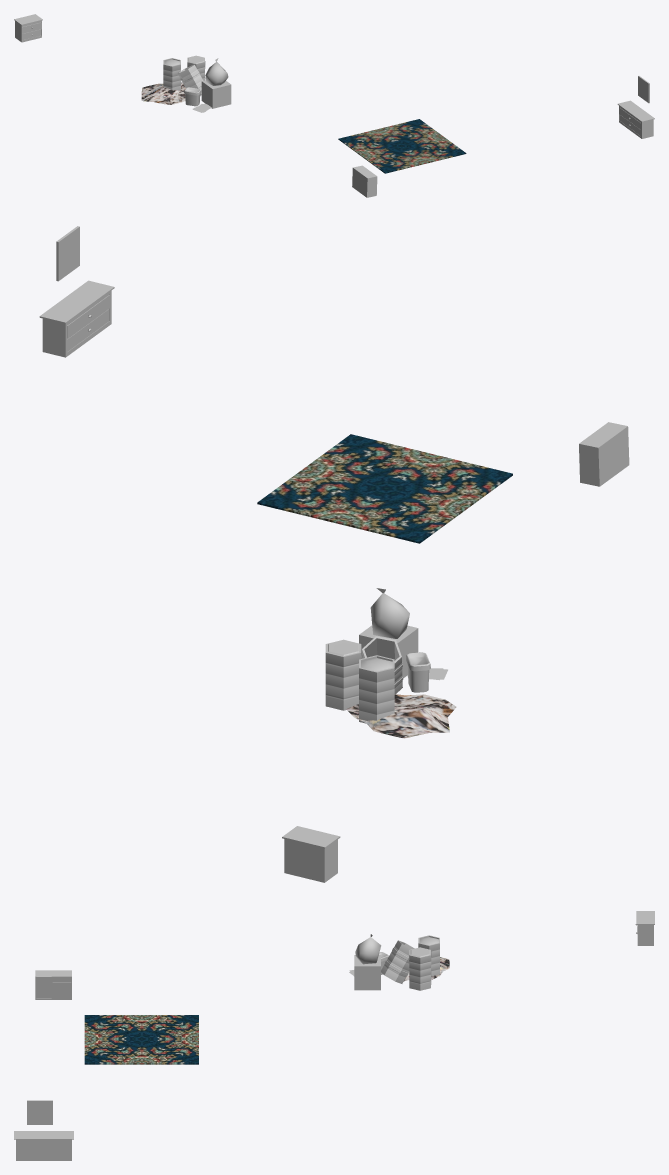
File: Asset Main Building_V2.fbx_Lorong_2.fbx
3 renders of one model, top to bottom at view 1: azimuth 30°, elevation 25°; view 2: azimuth 150°, elevation 25°; view 3: azimuth 270°, elevation 25°, orthographic. The views are drawn at different scales.
Parts seen in each view (by area): view 1: Carpet.002, sampah.006, Chest_drawers.001, CardboardBox_2.012, Chest_drawers_04.008, Cylinder001.002, Chest_drawers, Cylinder008.001, Garbage_bags.005, Trash_can_01.003; view 2: Carpet.002, sampah.006, Chest_drawers.001, Chest_drawers, Chest_drawers_04.008, Cylinder004.001, Cylinder001.002, Garbage_bags.005, Painting_04, Cylinder008.001; view 3: Carpet.002, Chest_drawers.001, Cylinder004.001, Cylinder008.001, CardboardBox_2.012, Painting_04, Chest_drawers, Garbage_bags.005, Cylinder001.002, Chest_drawers_04.008.
Part boxes in pixels (x1,y1,x2,y2): Carpet.002: [338, 119, 466, 173]; sampah.006: [141, 82, 185, 104]; Chest_drawers.001: [617, 100, 654, 138]; CardboardBox_2.012: [201, 80, 231, 108]; Chest_drawers_04.008: [352, 165, 377, 197]; Cylinder001.002: [163, 58, 180, 90]; Chest_drawers: [14, 14, 42, 42]; Cylinder008.001: [177, 64, 203, 95]; Garbage_bags.005: [205, 58, 228, 85]; Trash_can_01.003: [184, 87, 201, 106]; Carpet.002: [257, 434, 512, 543]; sampah.006: [346, 694, 456, 738]; Chest_drawers.001: [39, 280, 114, 357]; Chest_drawers: [282, 826, 340, 882]; Chest_drawers_04.008: [579, 422, 629, 486]; Cylinder004.001: [325, 639, 361, 710]; Cylinder001.002: [359, 655, 394, 723]; Garbage_bags.005: [370, 588, 409, 638]; Painting_04: [56, 226, 79, 281]; Cylinder008.001: [361, 636, 403, 694]; Carpet.002: [84, 1015, 198, 1064]; Chest_drawers.001: [14, 1131, 73, 1160]; Cylinder004.001: [409, 947, 431, 990]; Cylinder008.001: [381, 940, 414, 983]; CardboardBox_2.012: [354, 955, 380, 990]; Painting_04: [27, 1100, 52, 1124]; Chest_drawers: [636, 911, 654, 945]; Garbage_bags.005: [355, 934, 381, 964]; Cylinder001.002: [418, 935, 439, 976]; Chest_drawers_04.008: [35, 970, 71, 999].
Bounding box in the file's own units: 13817 × 1794 × 16464.
